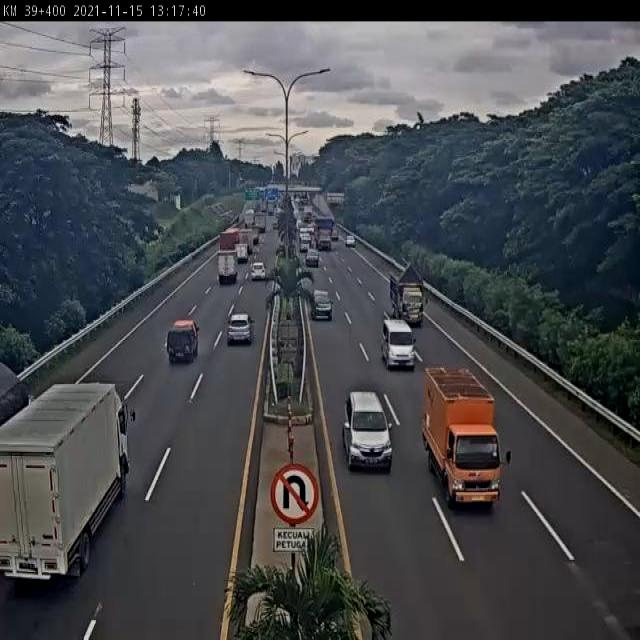Car: (340, 391, 390, 474), (379, 316, 418, 368), (222, 309, 259, 358), (308, 287, 338, 331), (303, 250, 321, 272), (252, 260, 265, 280), (342, 230, 356, 246)
Truck: (0, 362, 137, 600), (418, 363, 512, 510), (386, 262, 431, 334), (164, 311, 199, 362), (214, 247, 238, 288), (313, 219, 337, 252), (220, 226, 240, 252), (238, 220, 256, 244), (234, 236, 250, 263), (254, 210, 268, 234)
